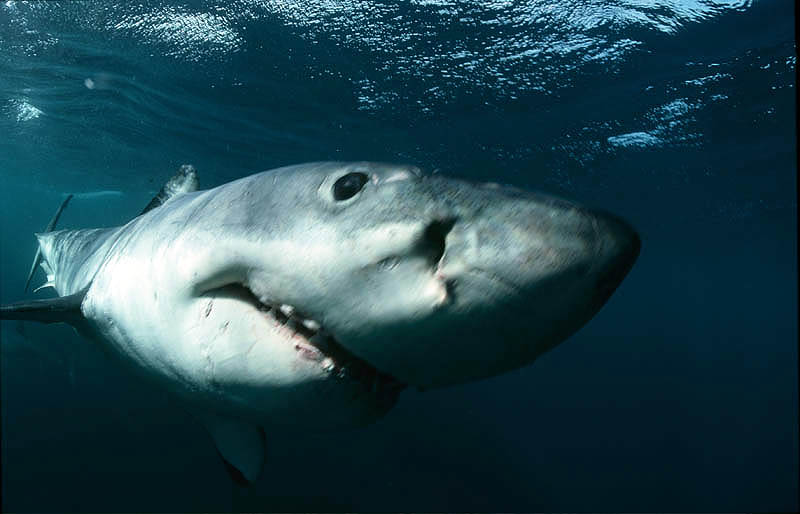Carcharodon_carcharias: (9, 137, 620, 489)
